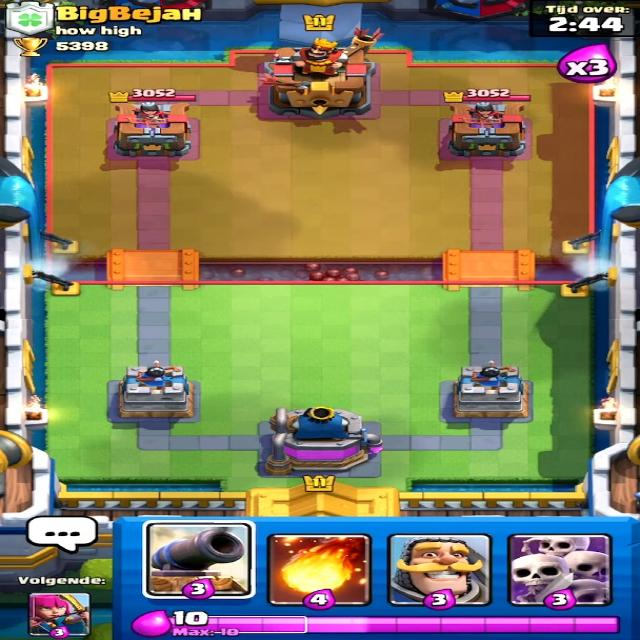Cannon_Card: (140, 518, 256, 599)
Fireball_Card: (265, 529, 373, 607)
